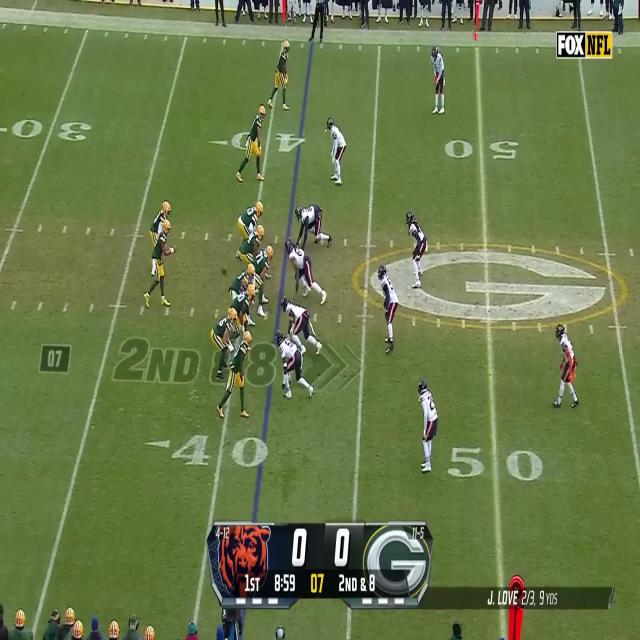Player: (215, 330, 253, 420), (149, 218, 174, 312), (276, 332, 308, 400), (242, 103, 267, 184), (555, 324, 578, 411), (377, 264, 398, 356), (210, 307, 236, 380), (419, 377, 437, 476), (406, 211, 427, 287), (146, 197, 175, 247), (272, 36, 292, 108), (326, 116, 346, 187), (286, 236, 312, 289), (237, 223, 266, 266), (295, 203, 324, 243), (228, 261, 256, 302), (281, 296, 309, 335), (237, 199, 263, 240), (431, 47, 445, 116), (229, 286, 258, 314), (255, 245, 275, 283)
